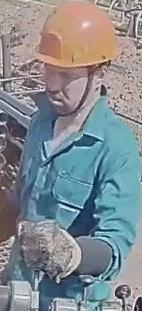gloves: (16, 218, 91, 283)
helmet: (34, 0, 120, 74)
vest: (0, 93, 141, 310)
